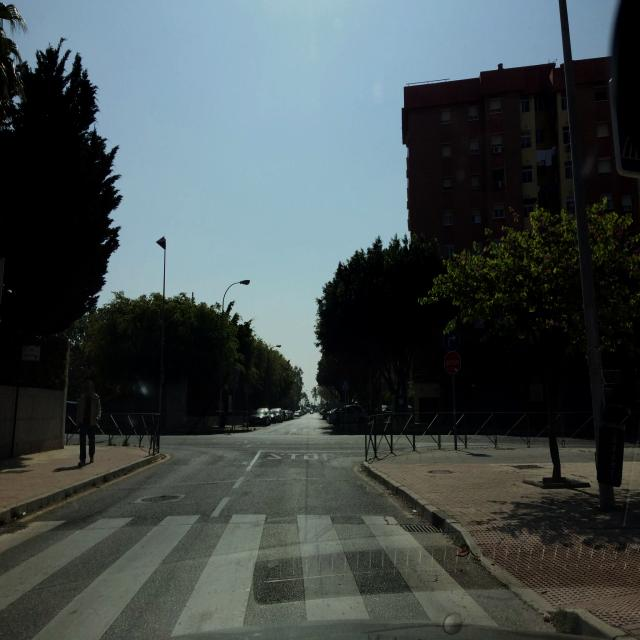car: (330, 402, 368, 430), (250, 408, 270, 427), (270, 408, 284, 422), (285, 409, 294, 420), (293, 408, 301, 418)
